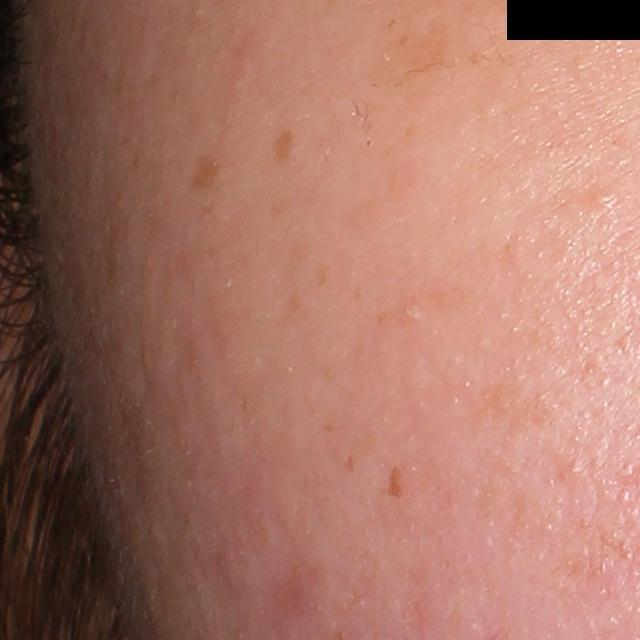comedo: (595, 188, 620, 211), (399, 300, 424, 321), (189, 3, 208, 24)
melasma: (180, 149, 229, 198), (379, 457, 410, 508), (267, 123, 301, 166)
